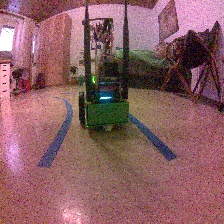rob: (77, 52, 130, 132)
